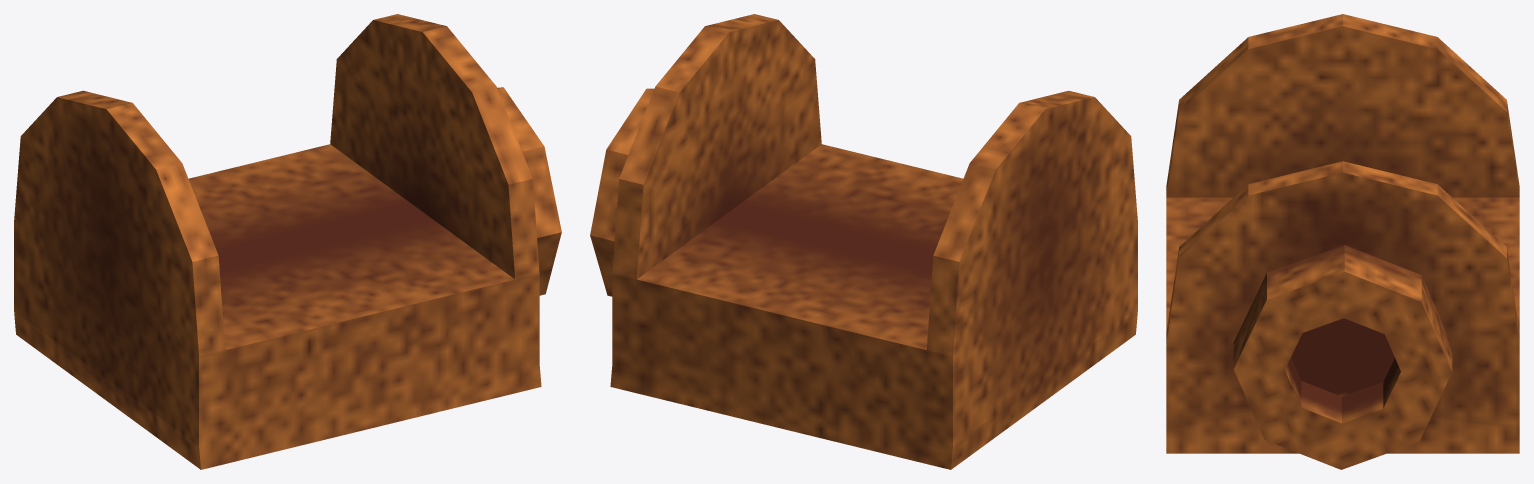
3 views of the same model, side by side, from view 1: azimuth 30°, elevation 25°; view 2: azimuth 150°, elevation 25°; view 3: azimuth 270°, elevation 25° (orthographic). The views are drawn at different scales.
Parts seen in each view (by area): view 1: Cylinder.017; view 2: Cylinder.017; view 3: Cylinder.017.
Boxes of the visible parts, left/top/right/bottom form: Cylinder.017: left=14, top=14, right=561, bottom=469; Cylinder.017: left=590, top=14, right=1137, bottom=469; Cylinder.017: left=1166, top=14, right=1519, bottom=469.
Bounding box in the file's own units: 0.5216 × 0.3675 × 0.4198.
Materials: 1 (1 with a texture image).
